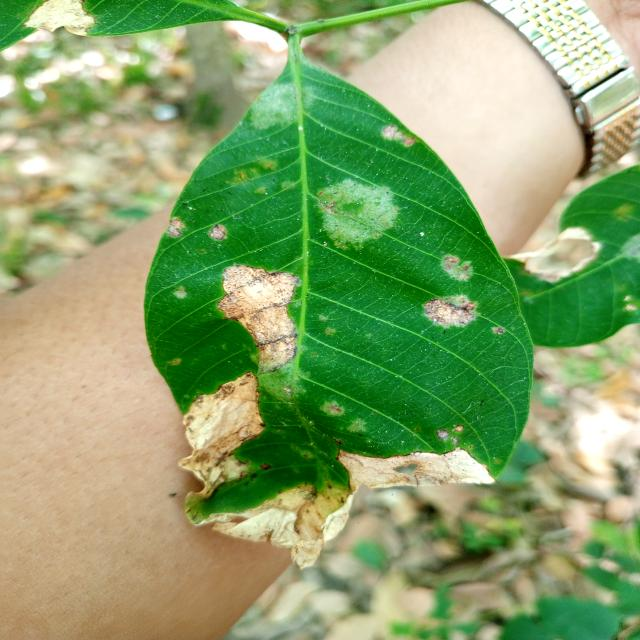Leaf-Blight: (196, 485, 353, 570), (177, 372, 266, 499), (216, 264, 300, 374), (335, 447, 496, 492), (24, 0, 96, 37)
